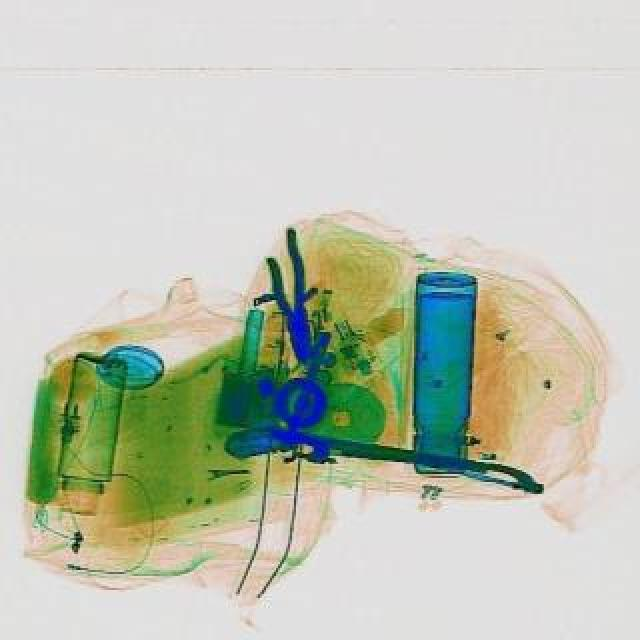wrench: (262, 226, 326, 364)
